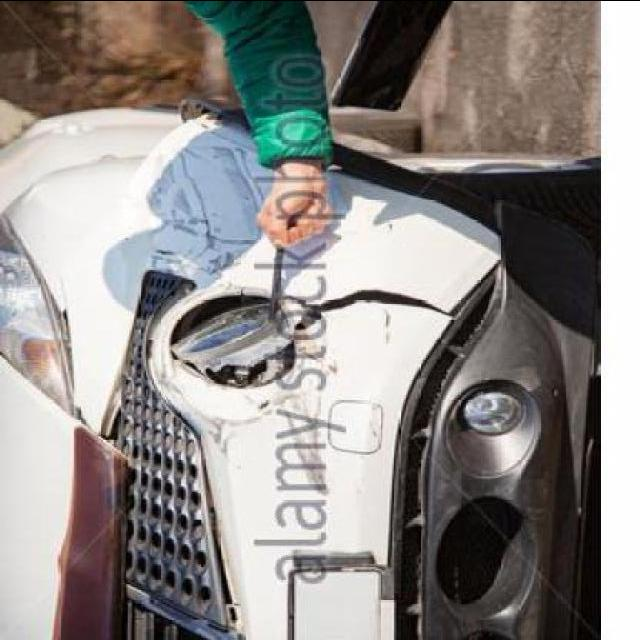front-bumper-dent: (228, 175, 584, 639)
